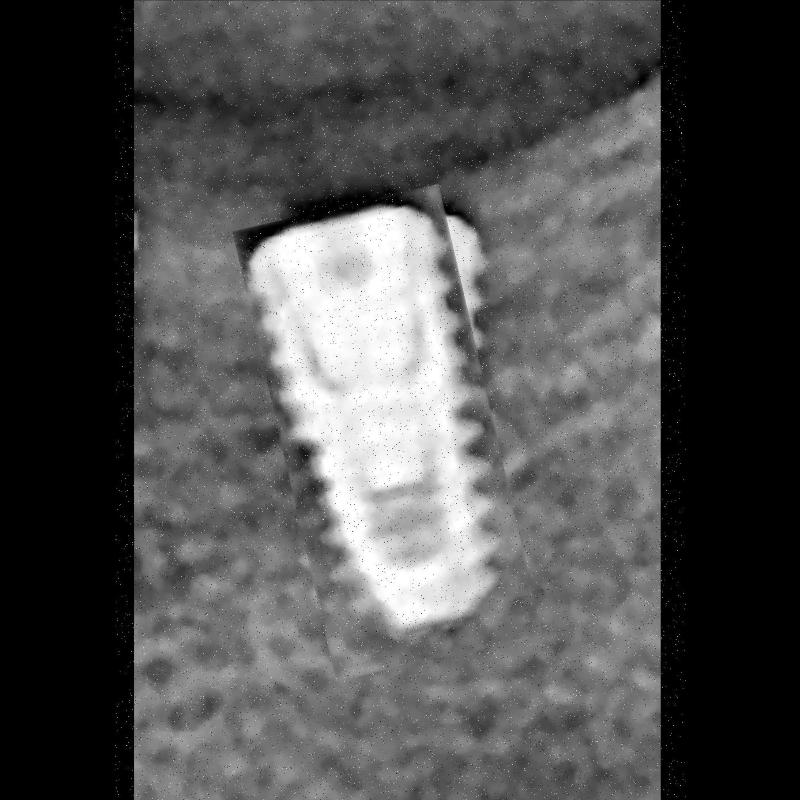osstem: (257, 193, 517, 673)
